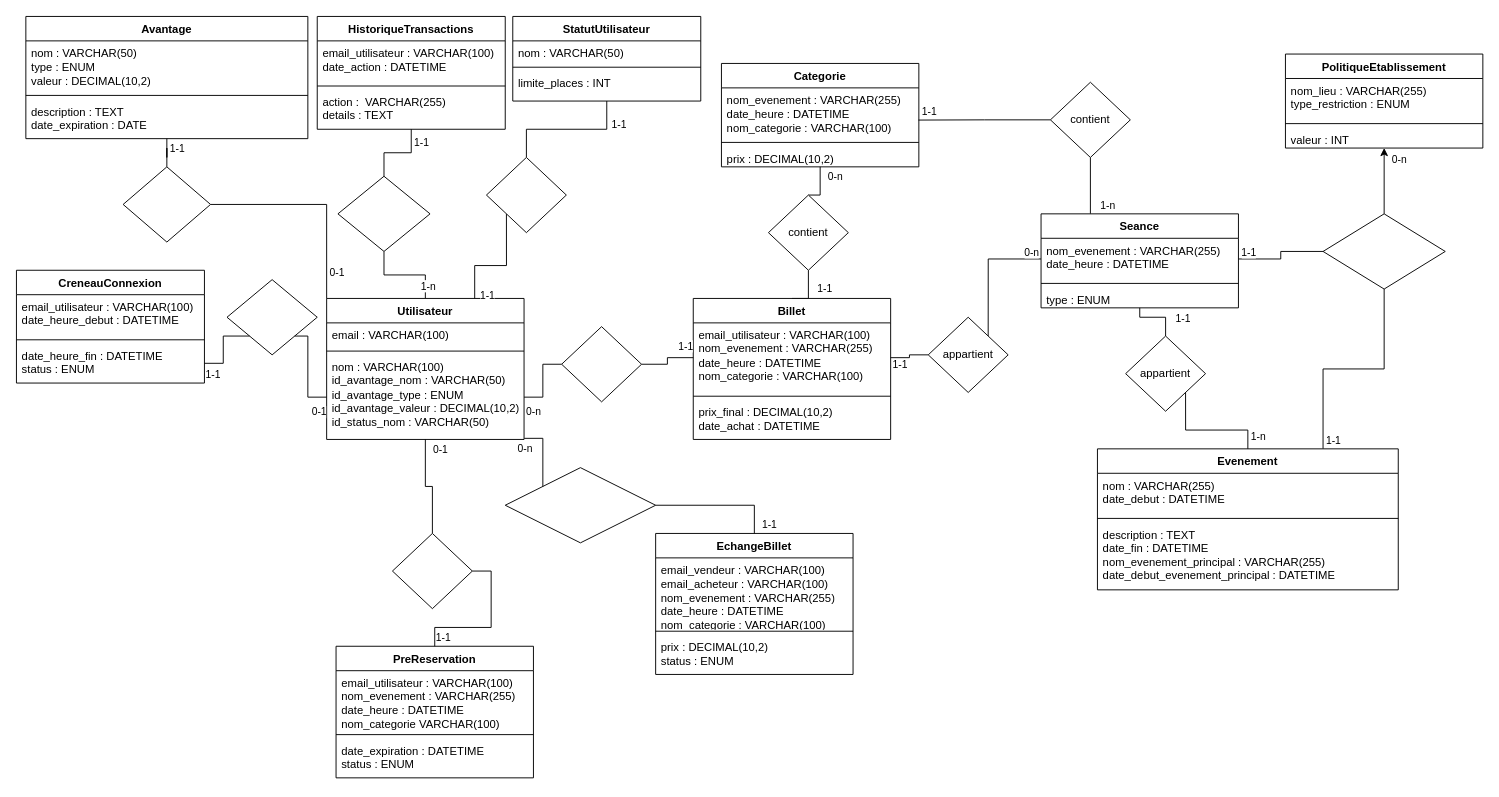
Image size: 1499x797. Some labels were removed from this diagram. Each missing label, with the centre of its shape:
"a les regles" goes at point 1383,251.
"a un avantage" goes at point 166,204.
"a un creneau" goes at point 271,317.
"a un historique" goes at point 383,213.
"a un status" goes at point 526,195.
"achete" goes at point 601,364.
"acheter/vendre" goes at point 580,505.
"reserve" goes at point 432,571.
